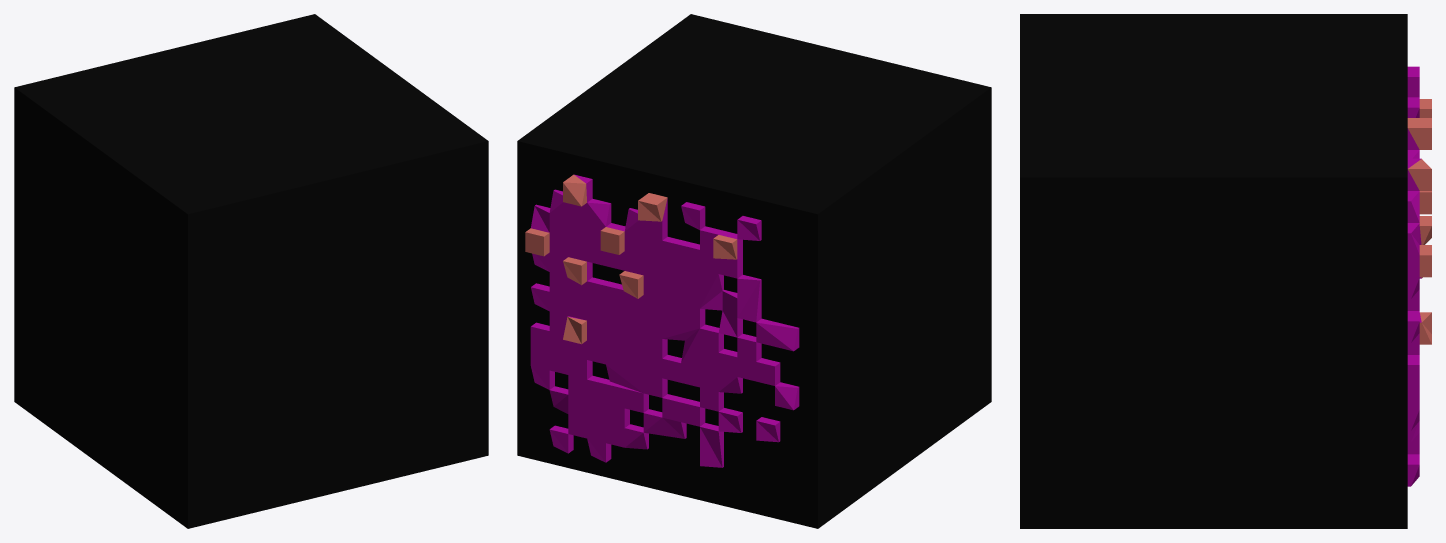
The model's file is br-m-bush-purple.fbx.
3 views of the same model, side by side, from view 1: azimuth 30°, elevation 25°; view 2: azimuth 150°, elevation 25°; view 3: azimuth 270°, elevation 25° (orthographic). The views are drawn at different scales.
Visible parts, largest first — view 1: block; view 2: block, bush; view 3: block, bush.
Boxes of the visible parts, bbox=[...] form: block: bbox=[14, 14, 488, 528]; block: bbox=[517, 14, 991, 528]; bush: bbox=[525, 174, 799, 467]; block: bbox=[1020, 14, 1407, 528]; bush: bbox=[1407, 66, 1431, 486].
Size of the model in its own units: 1 by 1 by 1.06.
